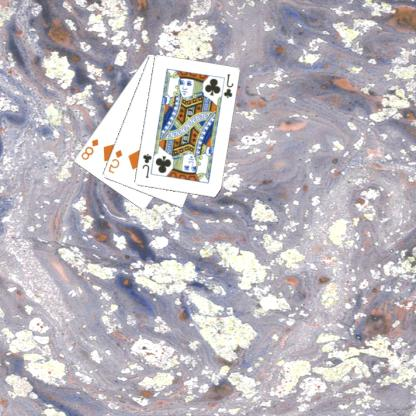5D: (107, 147, 125, 175)
8D: (80, 136, 101, 161)
JC: (141, 152, 154, 180), (223, 72, 236, 100)
